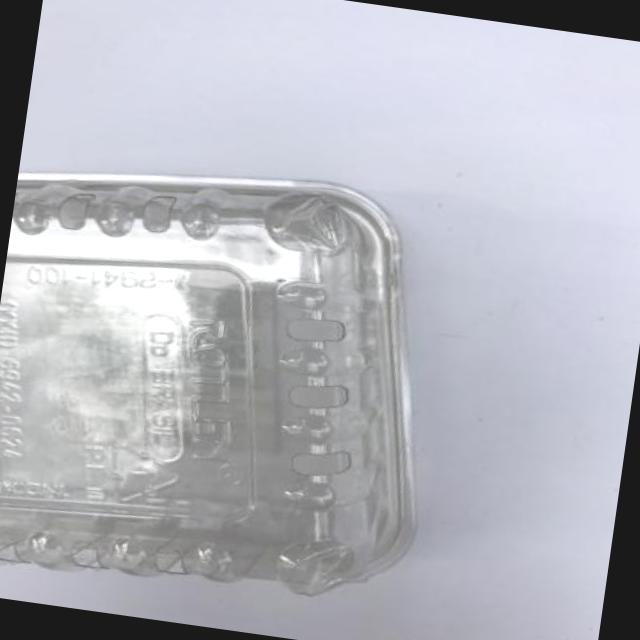plastic: (0, 183, 415, 554)
